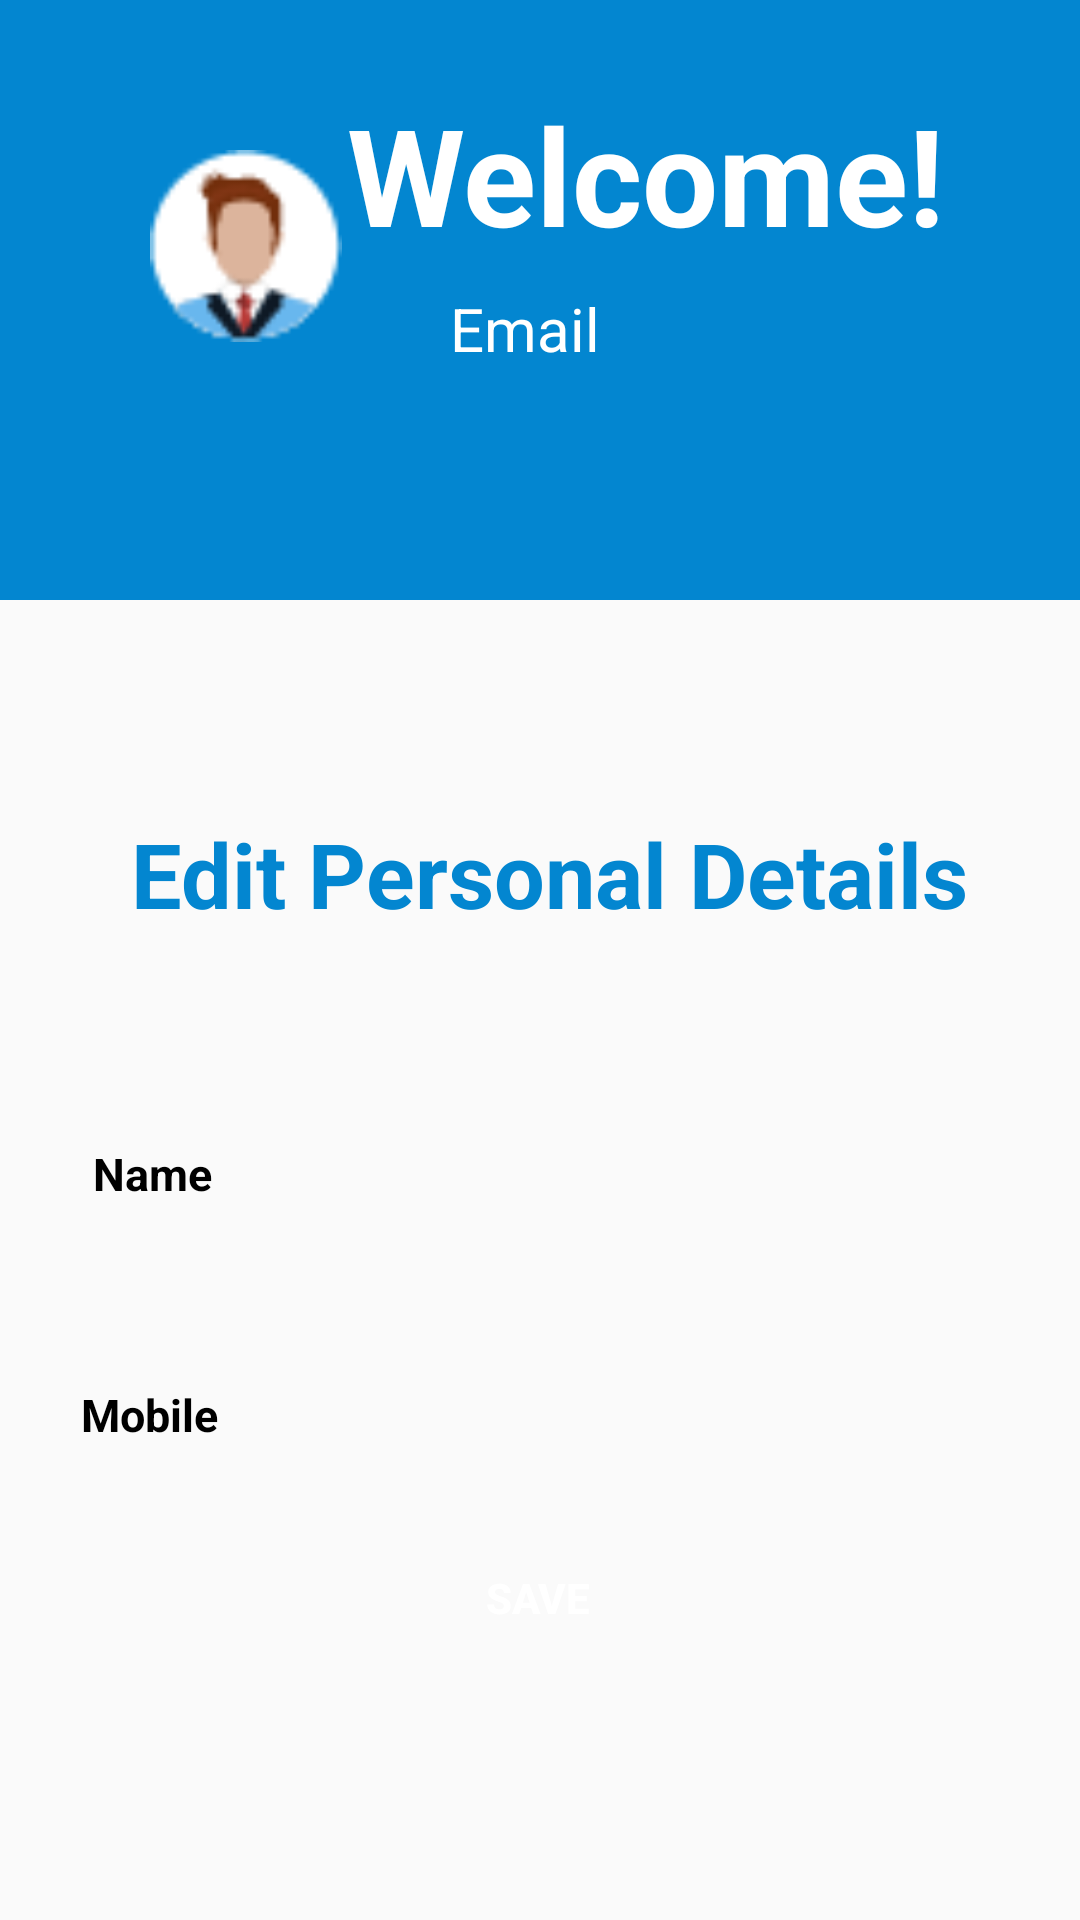

Where icons sit on this 1080px x 1920px app screen, as (x1=x1, y1=y1, x2=x2, y2=y2):
usericon: (x1=150, y1=150, x2=342, y2=342)
